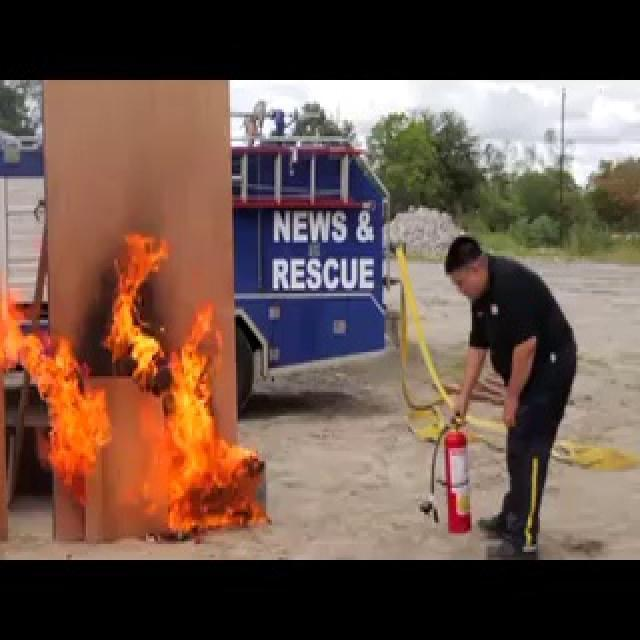Fire: (2, 220, 274, 544)
